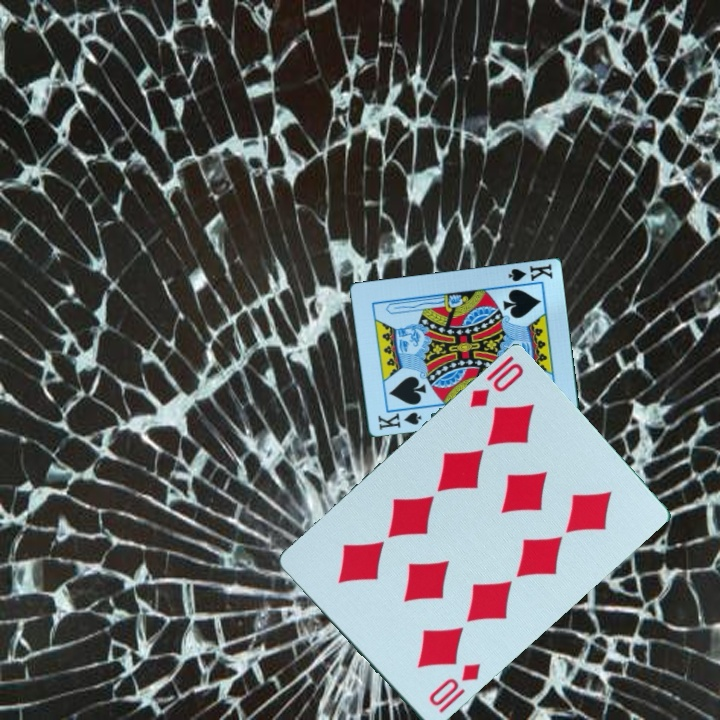10d: (466, 353, 527, 412), (425, 660, 484, 717)
Ks: (503, 260, 556, 289), (374, 409, 424, 434)
